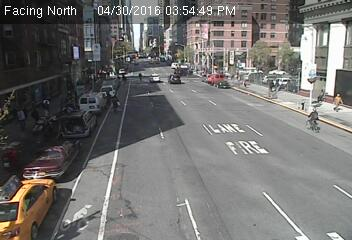neg: (209, 163, 247, 213), (125, 147, 153, 184), (303, 102, 328, 135), (161, 65, 183, 95), (175, 117, 197, 147), (253, 127, 275, 156), (211, 56, 230, 81), (68, 180, 87, 205), (246, 73, 264, 98)
pos: (329, 88, 347, 111), (11, 106, 28, 129), (108, 93, 123, 112), (318, 86, 330, 102), (30, 106, 41, 120)
